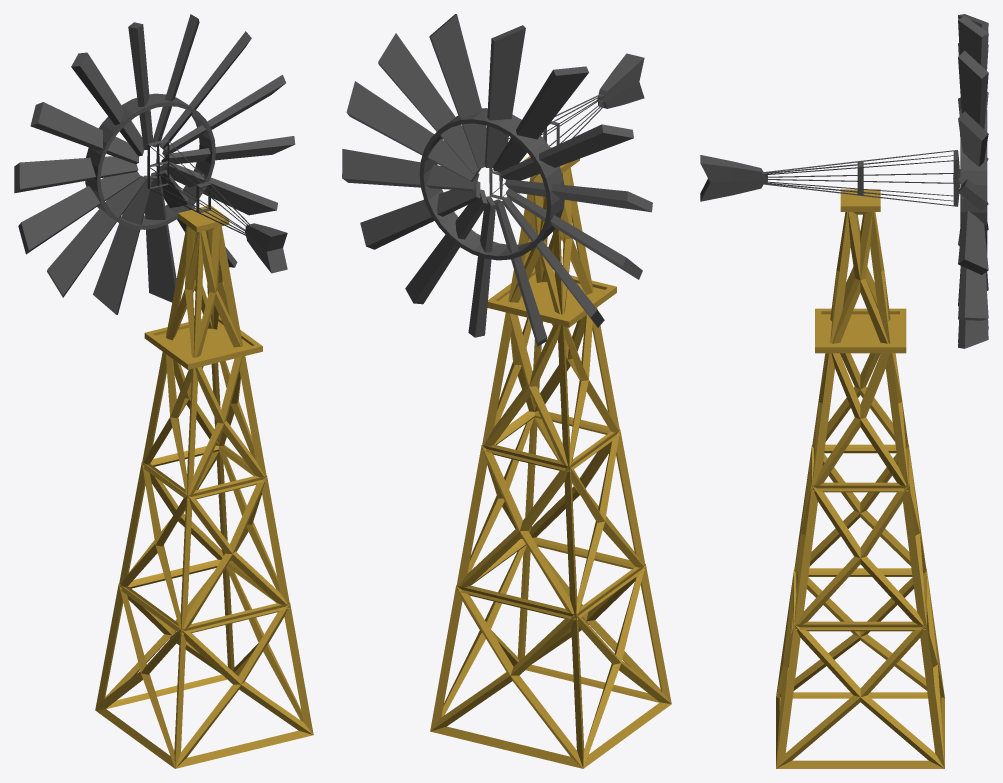
The model's file is windmill.fbx.
3 renders of one model, left to right at view 1: azimuth 30°, elevation 25°; view 2: azimuth 150°, elevation 25°; view 3: azimuth 270°, elevation 25°, orthographic. The views are drawn at different scales.
Visible parts, largest first — view 1: Truss, Viens, Circle, Cube, Cube.005, Cube.006, Cube.004; view 2: Truss, Viens, Circle, Cube, Cube.006, Cube.005; view 3: Truss, Viens, Cube, Cube.005, Cube.006, Circle, Cube.004.
Boxes of the visible parts, <box> form: Truss: <box>95,225,313,768</box>; Viens: <box>14,14,295,314</box>; Circle: <box>85,93,215,229</box>; Cube: <box>144,315,262,369</box>; Cube.005: <box>147,139,249,235</box>; Cube.006: <box>245,223,287,273</box>; Cube.004: <box>178,205,229,232</box>; Truss: <box>430,167,671,768</box>; Viens: <box>342,14,652,346</box>; Circle: <box>419,108,564,260</box>; Cube: <box>487,268,616,327</box>; Cube.006: <box>597,53,644,108</box>; Cube.005: <box>489,94,604,201</box>; Truss: <box>776,212,944,768</box>; Viens: <box>958,14,988,348</box>; Cube: <box>815,308,906,353</box>; Cube.005: <box>763,150,960,206</box>; Cube.006: <box>700,155,766,201</box>; Circle: <box>960,109,987,254</box>; Cube.004: <box>840,189,880,211</box>.
Bounding box in the file's own units: 471 × 1071 × 398.
